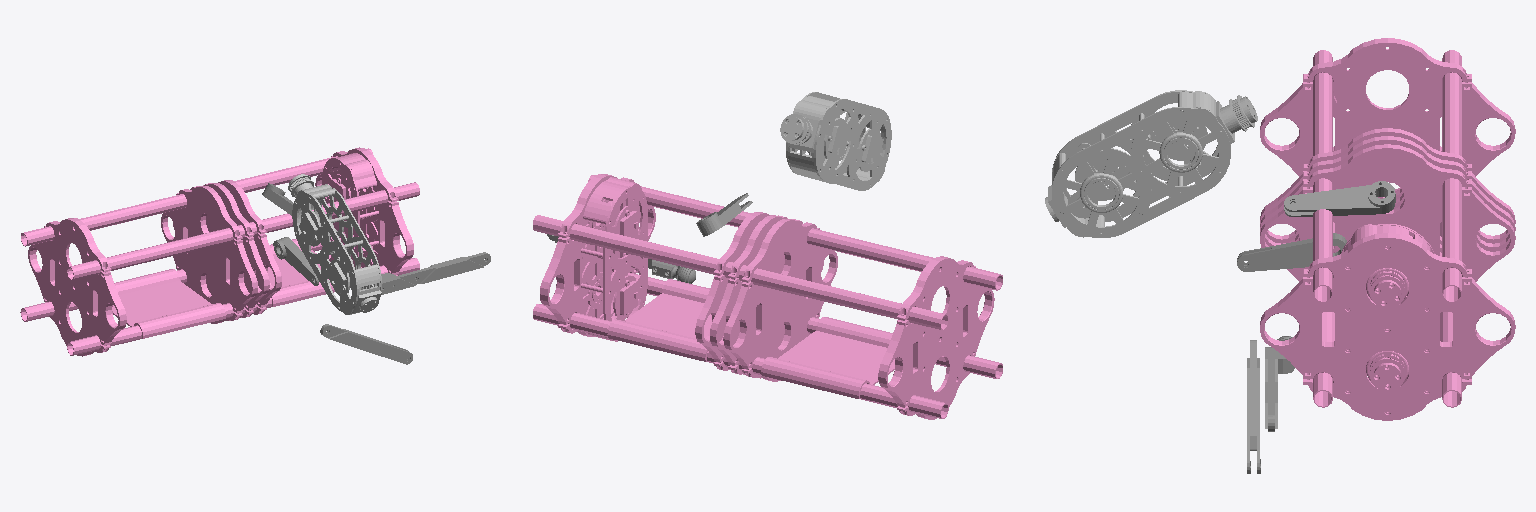
robot.urdf — quadbot:
<!-- <?xml version="1.0" encoding="utf-8"?> -->
<!-- This URDF was automatically created by SolidWorks to URDF Exporter! Originally created by [author] ([email redacted]) 
     Commit Version: 1.6.0-4-g7f85cfe  Build Version: 1.6.7995.38578
     For more information, please see http://wiki.ros.org/sw_urdf_exporter -->
<robot
  name="quadbot">
  <link
    name="base_link">
    <inertial>
      <origin
        xyz="0.015391 0.18702 -1.9815E-06"
        rpy="0 0 0" />
      <mass
        value="1.1069" />
      <inertia
        ixx="0.0039434"
        ixy="-2.2459E-12"
        ixz="2.0626E-09"
        iyy="0.0047314"
        iyz="-1.5796E-06"
        izz="0.0039285" />
    </inertial>
    <visual>
      <origin
        xyz="0 0 0"
        rpy="0 0 0" />
      <geometry>
        <mesh
          filename="../meshes/base_link.STL" />
      </geometry>
      <material
        name="">
        <color
          rgba="1 0.67059 0.87059 1" />
      </material>
    </visual>
    <collision>
      <origin
        xyz="0 0 0"
        rpy="0 0 0" />
      <geometry>
        <mesh
          filename="../meshes/base_link.STL" />
      </geometry>
    </collision>
  </link>
  <link
    name="FR_link">
    <inertial>
      <origin
        xyz="-1.9871E-05 0.013716 -0.050139"
        rpy="0 0 0" />
      <mass
        value="0.11038" />
      <inertia
        ixx="0.00011182"
        ixy="2.0626E-09"
        ixz="-1.7773E-06"
        iyy="0.0001567"
        iyz="-2.2451E-12"
        izz="5.3382E-05" />
    </inertial>
    <visual>
      <origin
        xyz="0 0 0"
        rpy="0 0 0" />
      <geometry>
        <mesh
          filename="../meshes/FR_link.STL" />
      </geometry>
      <material
        name="">
        <color
          rgba="0.79216 0.79216 0.79216 1" />
      </material>
    </visual>
    <collision>
      <origin
        xyz="0 0 0"
        rpy="0 0 0" />
      <geometry>
        <mesh
          filename="../meshes/FR_link.STL" />
      </geometry>
    </collision>
  </link>
  <joint
    name="FR_joint"
    type="revolute">
    <origin
      xyz="0.068396 -0.079 0.19165"
      rpy="-1.5708 1.564 1.5708" />
    <parent
      link="base_link" />
    <child
      link="FR_link" />
    <axis
      xyz="0 0 1" />
    <limit
      lower="0"
      upper="3.14"
      effort="0"
      velocity="0" />
  </joint>
  <link
    name="FR_1_link">
    <inertial>
      <origin
        xyz="0.0291578714898912 -0.00987962579279213 -1.12132525487141E-14"
        rpy="0 0 0" />
      <mass
        value="0.0209412067295075" />
      <inertia
        ixx="9.42722406410459E-07"
        ixy="1.54265002106538E-07"
        ixz="2.2356624005777E-21"
        iyy="1.22072933903446E-05"
        iyz="-2.24993126614424E-22"
        izz="1.14710057680368E-05" />
    </inertial>
    <visual>
      <origin
        xyz="0 0 0"
        rpy="0 0 0" />
      <geometry>
        <mesh
          filename="../meshes/FR_1_link.STL" />
      </geometry>
      <material
        name="">
        <color
          rgba="0.627450980392157 0.627450980392157 0.627450980392157 1" />
      </material>
    </visual>
    <collision>
      <origin
        xyz="0 0 0"
        rpy="0 0 0" />
      <geometry>
        <mesh
          filename="../meshes/FR_1_link.STL" />
      </geometry>
    </collision>
  </link>
  <joint
    name="FR_1_joint"
    type="revolute">
    <origin
      xyz="0 0.031751 -0.082"
      rpy="3.1416 0.97613 0" />
    <parent
      link="FR_link" />
    <child
      link="FR_1_link" />
    <axis
      xyz="0 1 0" />
    <limit
      lower="0"
      upper="3.14"
      effort="0"
      velocity="0" />
  </joint>
  <link
    name="FR_2_link">
    <inertial>
      <origin
        xyz="-0.000248700730455437 -0.100976764101735 -0.00648758022394789"
        rpy="0 0 0" />
      <mass
        value="0.0364575799194722" />
      <inertia
        ixx="5.58581169249248E-05"
        ixy="5.66699347727094E-08"
        ixz="4.43522719988858E-11"
        iyy="9.04626145158037E-07"
        iyz="1.08482409824532E-08"
        izz="5.64901840947864E-05" />
    </inertial>
    <visual>
      <origin
        xyz="0 0 0"
        rpy="0 0 0" />
      <geometry>
        <mesh
          filename="../meshes/FR_2_link.STL" />
      </geometry>
      <material
        name="">
        <color
          rgba="0.627450980392157 0.627450980392157 0.627450980392157 1" />
      </material>
    </visual>
    <collision>
      <origin
        xyz="0 0 0"
        rpy="0 0 0" />
      <geometry>
        <mesh
          filename="../meshes/FR_2_link.STL" />
      </geometry>
    </collision>
  </link>
  <joint
    name="FR_2_joint"
    type="revolute">
    <origin
      xyz="0.08 0 0"
      rpy="1.5708 0.35633 3.1416" />
    <parent
      link="FR_1_link" />
    <child
      link="FR_2_link" />
    <axis
      xyz="0 0 1" />
    <limit
      lower="0"
      upper="3.14"
      effort="0"
      velocity="0" />
  </joint>
  <link
    name="FR_3_link">
    <inertial>
      <origin
        xyz="0.000136237888330254 0.0658007969173274 0.00599999999999996"
        rpy="0 0 0" />
      <mass
        value="0.0221842987960633" />
      <inertia
        ixx="2.81354775768645E-05"
        ixy="-1.46900586685661E-07"
        ixz="4.89690922631392E-22"
        iyy="5.34735340581066E-07"
        iyz="2.15827965427336E-20"
        izz="2.85375296980227E-05" />
    </inertial>
    <visual>
      <origin
        xyz="0 0 0"
        rpy="0 0 0" />
      <geometry>
        <mesh
          filename="../meshes/FR_3_link.STL" />
      </geometry>
      <material
        name="">
        <color
          rgba="0.627450980392157 0.627450980392157 0.627450980392157 1" />
      </material>
    </visual>
    <collision>
      <origin
        xyz="0 0 0"
        rpy="0 0 0" />
      <geometry>
        <mesh
          filename="../meshes/FR_3_link.STL" />
      </geometry>
    </collision>
  </link>
  <joint
    name="FR_3_joint"
    type="revolute">
    <origin
      xyz="0 -0.1 -0.016499"
      rpy="0 0 -1.3056" />
    <parent
      link="FR_2_link" />
    <child
      link="FR_3_link" />
    <axis
      xyz="0 0 1" />
    <limit
      lower="0"
      upper="3.14"
      effort="0"
      velocity="0" />
  </joint>
  <link
    name="FR_4_link">
    <inertial>
      <origin
        xyz="0.029158 0.0066196 2.0151E-14"
        rpy="0 0 0" />
      <mass
        value="0.020941" />
      <inertia
        ixx="9.4272E-07"
        ixy="1.5427E-07"
        ixz="1.597E-21"
        iyy="1.2207E-05"
        iyz="-1.8198E-22"
        izz="1.1471E-05" />
    </inertial>
    <visual>
      <origin
        xyz="0 0 0"
        rpy="0 0 0" />
      <geometry>
        <mesh
          filename="../meshes/FR_4_link.STL" />
      </geometry>
      <material
        name="">
        <color
          rgba="0.62745 0.62745 0.62745 1" />
      </material>
    </visual>
    <collision>
      <origin
        xyz="0 0 0"
        rpy="0 0 0" />
      <geometry>
        <mesh
          filename="../meshes/FR_4_link.STL" />
      </geometry>
    </collision>
  </link>
  <joint
    name="FR_4_joint"
    type="revolute">
    <origin
      xyz="-0.064226 0.1777 0"
      rpy="1.5708 0 -0.63878" />
    <parent
      link="FR_3_link" />
    <child
      link="FR_4_link" />
    <axis
      xyz="0 0.0068294 -0.99998" />
    <limit
      lower="0"
      upper="3.14"
      effort="0"
      velocity="0" />
  </joint>
  <!-- <link
    name="Empty_Link">
    <inertial>
      <origin
        xyz="0 0 0"
        rpy="0 0 0" />
      <mass
        value="0" />
      <inertia
        ixx="0"
        ixy="0"
        ixz="0"
        iyy="0"
        iyz="0"
        izz="0" />
    </inertial>
    <visual>
      <origin
        xyz="0 0 0"
        rpy="0 0 0" />
      <geometry>
        <mesh
          filename="../meshes/Empty_Link.STL" />
      </geometry>
      <material
        name="">
        <color
          rgba="1 1 1 1" />
      </material>
    </visual>
    <collision>
      <origin
        xyz="0 0 0"
        rpy="0 0 0" />
      <geometry>
        <mesh
          filename="../meshes/Empty_Link.STL" />
      </geometry>
    </collision>
  </link> -->
  <!-- <joint
    name="tmp_joint"
    type="revolute">
    <origin
      xyz="0 0 0"
      rpy="0 0 0" />
    <parent
      link="" />
    <child
      link="" />
    <axis
      xyz="0 -1 0" />
    <limit
      lower="0"
      upper="3.14"
      effort="0"
      velocity="0" />
  </joint> -->
</robot>

--- Render facts (derived) ---
3 views of the same robot in one strip: view 1: azimuth 30°, elevation 25°; view 2: azimuth 150°, elevation 25°; view 3: azimuth 270°, elevation 25° (orthographic).
Model quadbot with 6 links and 5 joints (5 revolute), rooted at base_link, posed all joints at 0.
Visible links, largest first — view 1: base_link, FR_link, FR_2_link, FR_3_link, FR_4_link; view 2: base_link, FR_link, FR_1_link, FR_2_link; view 3: base_link, FR_link, FR_1_link, FR_4_link, FR_3_link, FR_2_link.
Link boxes in pixels (left/top/right/bottom): base_link: left=20, top=147, right=419, bottom=356; FR_link: left=288, top=174, right=381, bottom=314; FR_2_link: left=361, top=252, right=490, bottom=294; FR_3_link: left=320, top=324, right=412, bottom=364; FR_4_link: left=273, top=237, right=319, bottom=285; base_link: left=533, top=174, right=1002, bottom=419; FR_link: left=780, top=92, right=891, bottom=190; FR_1_link: left=696, top=193, right=752, bottom=236; FR_2_link: left=547, top=234, right=695, bottom=283; base_link: left=1260, top=38, right=1515, bottom=420; FR_link: left=1045, top=90, right=1257, bottom=237; FR_1_link: left=1284, top=181, right=1395, bottom=216; FR_4_link: left=1237, top=233, right=1346, bottom=271; FR_3_link: left=1247, top=340, right=1260, bottom=473; FR_2_link: left=1265, top=336, right=1294, bottom=431.
Size in the robot's own frame: 0.5798 by 0.4235 by 0.3003 metres.
Meshes: 6 distinct files referenced, 6 mesh visuals loaded (6 binary STL).